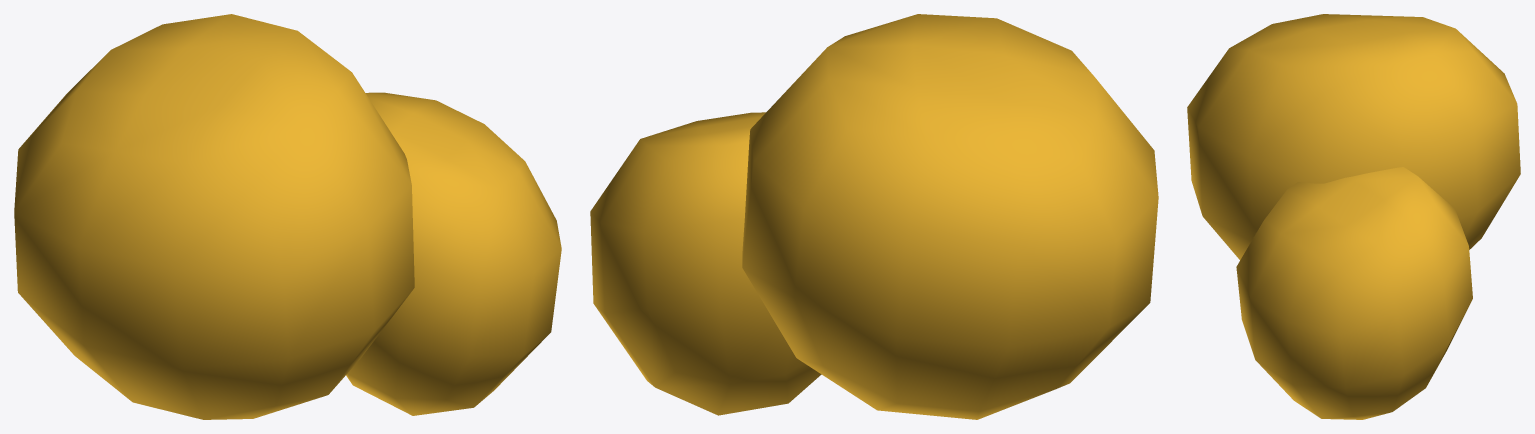
Rendered from Shrub_Top_A_02_LOD2.gltf.
3 renders of one model, left to right at view 1: azimuth 30°, elevation 25°; view 2: azimuth 150°, elevation 25°; view 3: azimuth 270°, elevation 25°, orthographic. The views are drawn at different scales.
Parts seen in each view (by area): view 1: Shrub_Top_A_02_LOD2_Cylinder.728; view 2: Shrub_Top_A_02_LOD2_Cylinder.728; view 3: Shrub_Top_A_02_LOD2_Cylinder.728.
Boxes of the visible parts, x1,y1,x2,y2 form: Shrub_Top_A_02_LOD2_Cylinder.728: [14, 14, 561, 419]; Shrub_Top_A_02_LOD2_Cylinder.728: [590, 14, 1158, 419]; Shrub_Top_A_02_LOD2_Cylinder.728: [1187, 14, 1520, 419].
Bounding box in the file's own units: 6.73 × 4.86 × 4.83.
1 material, 1 textured.
